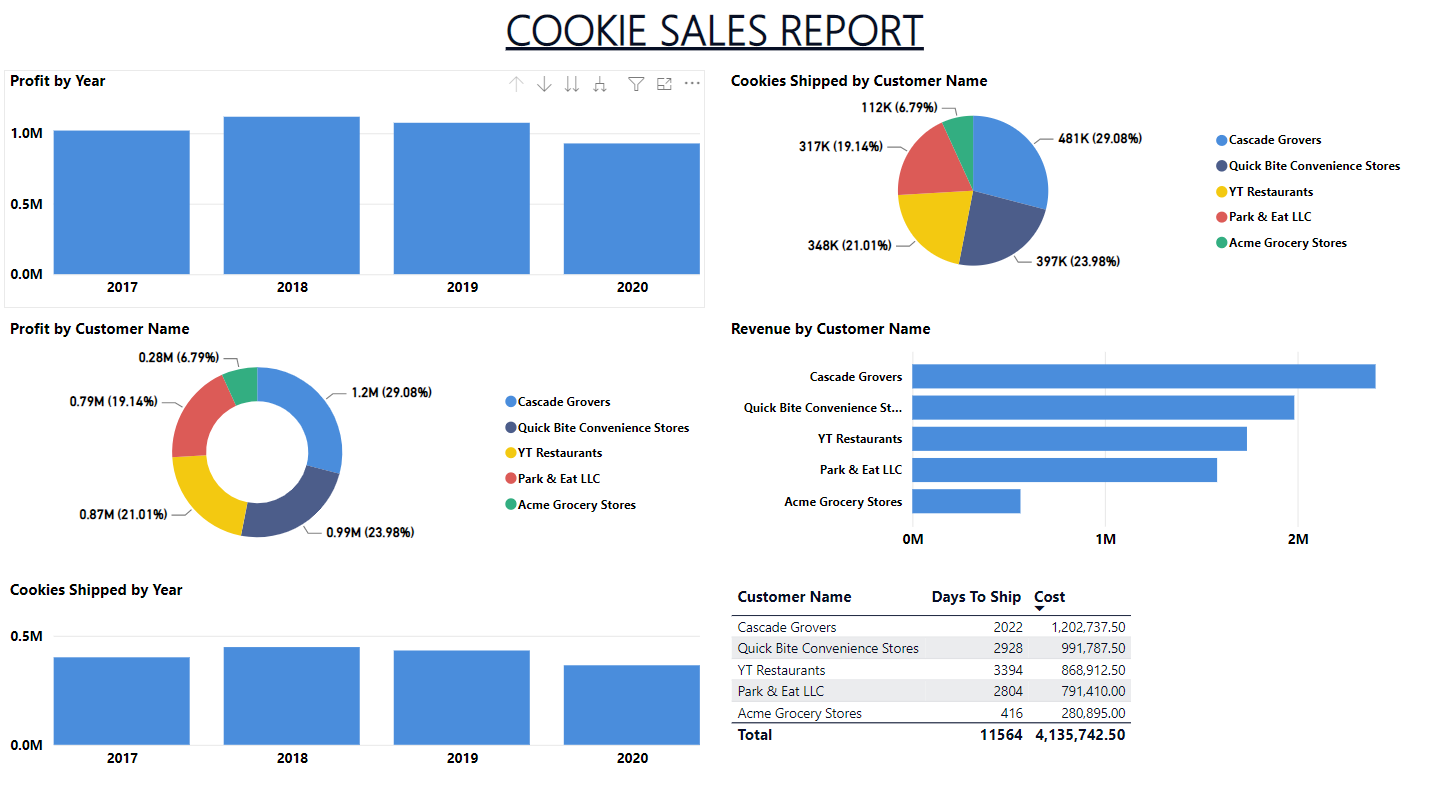

What the dashboard file says about the page in this screenshot:
{"tool":"powerbi","page":{"name":"Sales Report","canvas":[1280,720],"ordinal":0},"visuals":[{"type":"textbox","box":[0,0,1280,67.1],"z":0},{"type":"columnChart","fields":{"Category":["Order Tracking Sheet.Order Date.Variation.Date Hierarchy.Year","Order Tracking Sheet.Order Date.Variation.Date Hierarchy.Quarter","Order Tracking Sheet.Order Date.Variation.Date Hierarchy.Month","Order Tracking Sheet.Order Date.Variation.Date Hierarchy.Day"],"Y":["Sum(Order Tracking Sheet.Profit)"]},"box":[9.7,67.1,621.5,211.1],"z":1000},{"type":"clusteredBarChart","fields":{"Y":["Sum(Order Tracking Sheet.Revenue)"],"Category":["Order Tracking Sheet.Customer Name"]},"box":[648.8,286.9,612.8,214],"z":2000},{"type":"columnChart","fields":{"Y":["Sum(Order Tracking Sheet.Cookies Shipped)"],"Category":["Order Tracking Sheet.Ship Date.Variation.Date Hierarchy.Year","Order Tracking Sheet.Ship Date.Variation.Date Hierarchy.Quarter","Order Tracking Sheet.Ship Date.Variation.Date Hierarchy.Month","Order Tracking Sheet.Ship Date.Variation.Date Hierarchy.Day"]},"box":[9.7,518.4,621.5,177],"z":3000},{"type":"pieChart","fields":{"Category":["Order Tracking Sheet.Customer Name"],"Y":["Sum(Order Tracking Sheet.Cookies Shipped)"]},"box":[648.8,67.1,612.8,197.4],"z":4000},{"type":"donutChart","fields":{"Category":["Order Tracking Sheet.Customer Name"],"Y":["Sum(Order Tracking Sheet.Profit)"]},"box":[9.7,286.9,621.5,220.8],"z":5000},{"type":"tableEx","fields":{"Values":["Order Tracking Sheet.Customer Name","Sum(Order Tracking Sheet.Days To Ship)","Sum(Order Tracking Sheet.Cost)"]},"box":[648.8,518.4,612.8,177],"z":6000}]}

Visuals, with their boxes in screenshot pixels (x1, y1, x2, y2), scaled from the page's 1280x720 canvas onto the 1437x800 screenshot:
textbox: bbox(0, 0, 1436, 75)
columnChart - Order Tracking Sheet.Order Date.Variation.Date Hierarchy.Year x Order Tracking Sheet.Order Date.Variation.Date Hierarchy.Quarter: bbox(11, 75, 709, 309)
clusteredBarChart - Sum(Order Tracking Sheet.Revenue) x Order Tracking Sheet.Customer Name: bbox(728, 319, 1416, 557)
columnChart - Sum(Order Tracking Sheet.Cookies Shipped) x Order Tracking Sheet.Ship Date.Variation.Date Hierarchy.Year: bbox(11, 576, 709, 773)
pieChart - Order Tracking Sheet.Customer Name x Sum(Order Tracking Sheet.Cookies Shipped): bbox(728, 75, 1416, 294)
donutChart - Order Tracking Sheet.Customer Name x Sum(Order Tracking Sheet.Profit): bbox(11, 319, 709, 564)
tableEx - Order Tracking Sheet.Customer Name x Sum(Order Tracking Sheet.Days To Ship): bbox(728, 576, 1416, 773)
